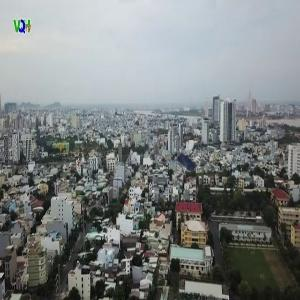drone: (150, 135, 216, 201)
